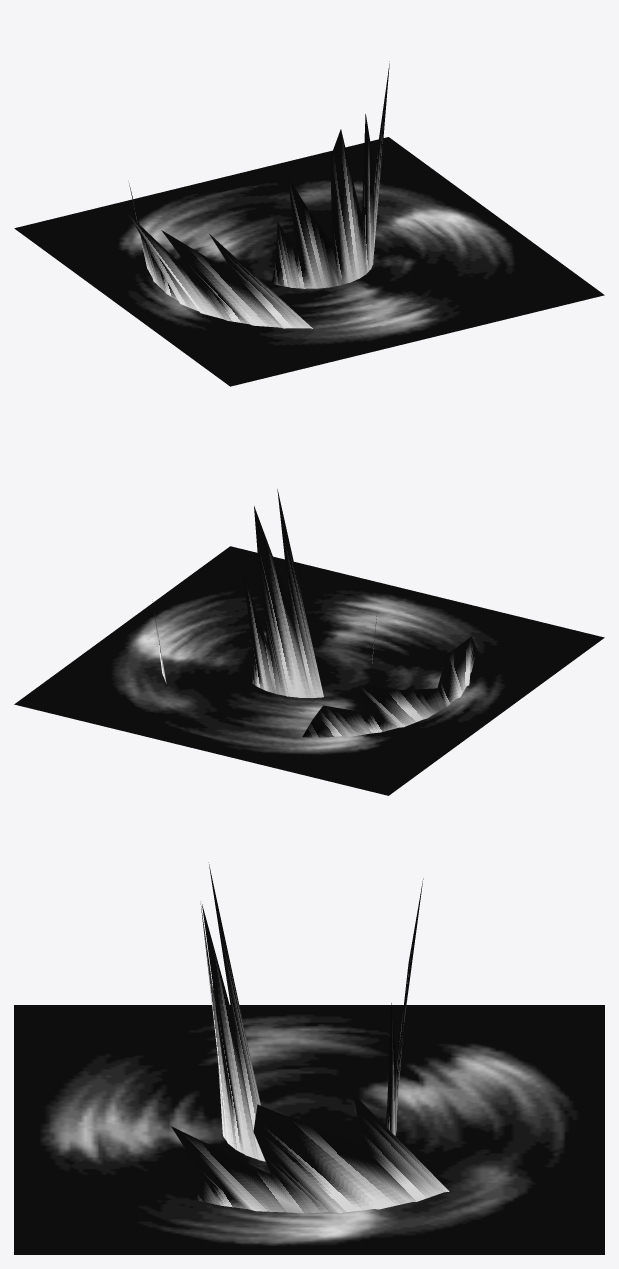
Rendered from whirlpool.glb.
3 renders of one model, top to bottom at view 1: azimuth 30°, elevation 25°; view 2: azimuth 150°, elevation 25°; view 3: azimuth 270°, elevation 25°, orthographic. The views are drawn at different scales.
Parts seen in each view (by area): view 1: polygon2, polygon0, polygon1; view 2: polygon2, polygon0, polygon1; view 3: polygon2, polygon1, polygon0.
Boxes of the visible parts, x1=… form: polygon2: x1=14, y1=137, x2=604, y2=386; polygon0: x1=272, y1=61, x2=389, y2=288; polygon1: x1=124, y1=183, x2=312, y2=328; polygon2: x1=14, y1=546, x2=604, y2=795; polygon0: x1=243, y1=489, x2=377, y2=697; polygon1: x1=152, y1=601, x2=476, y2=737; polygon2: x1=14, y1=1005, x2=604, y2=1254; polygon1: x1=171, y1=1093, x2=449, y2=1213; polygon0: x1=200, y1=862, x2=423, y2=1161.
Size of the model in its own units: 22 by 12.75 by 22.
Materials: 3 (3 with a texture image).
